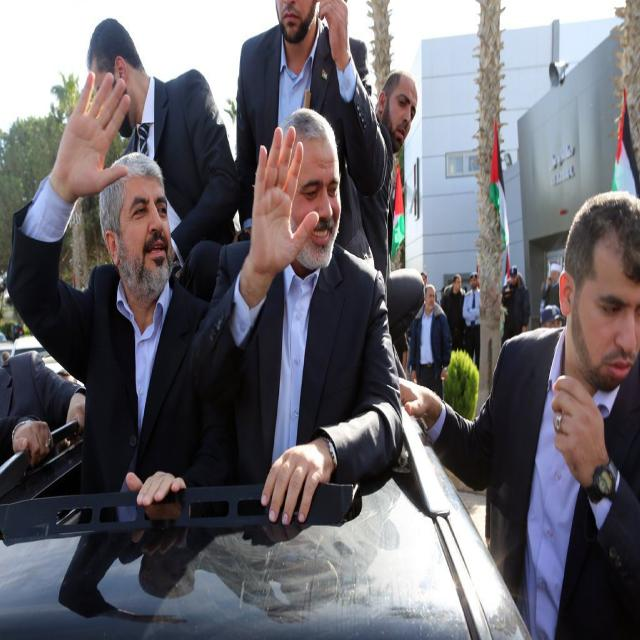body: (397, 189, 640, 637), (6, 68, 223, 521), (191, 106, 406, 529), (233, 0, 391, 274), (84, 15, 243, 270), (355, 70, 424, 346), (0, 335, 92, 475), (406, 282, 453, 401), (499, 263, 532, 353), (439, 272, 466, 349), (460, 270, 480, 371), (417, 270, 468, 309), (536, 301, 570, 341), (540, 258, 563, 308), (393, 329, 409, 377)
